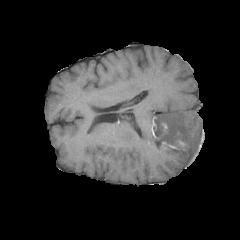glioma: (146, 108, 203, 167)
